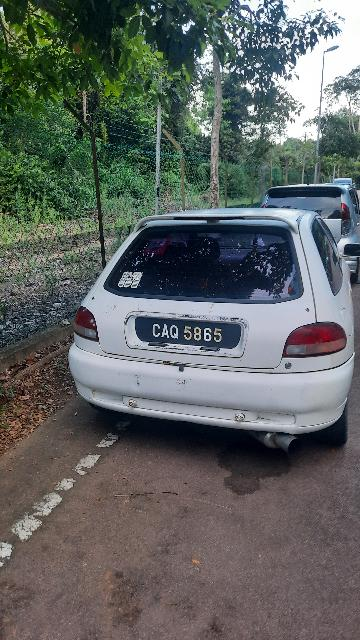License_Plate: (131, 313, 246, 354)
car: (64, 208, 360, 457)
